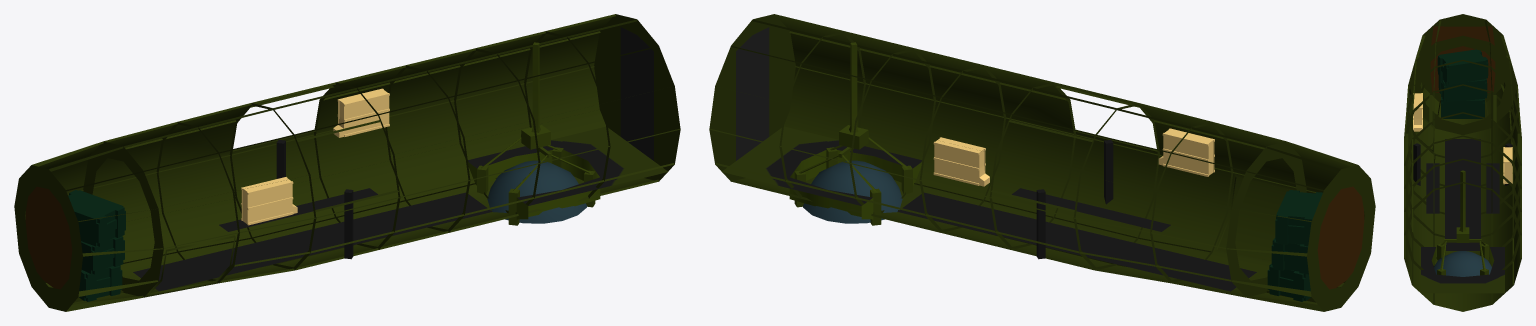
File: InteriorPlane.fbx
3 renders of one model, left to right at view 1: azimuth 30°, elevation 25°; view 2: azimuth 150°, elevation 25°; view 3: azimuth 270°, elevation 25°, orthographic. The views are drawn at different scales.
Visible parts, largest first — view 1: interior, interiorSupport, Platform, SphereTurretDisarm, Box, AmmunitionBoxes, Blanquet, SphereTurretAxis; view 2: interior, interiorSupport, Platform, SphereTurretDisarm, AmmunitionBoxes, Box, Blanquet, SphereTurretAxis; view 3: interiorSupport, interior, Platform, Box, Blanquet, SphereTurretDisarm, AmmunitionBoxes, SphereTurretAxis.
Part boxes in pixels (box(x1,y1,x2,y2)): interior: box(25, 14, 680, 304); interiorSupport: box(14, 14, 680, 311); Platform: box(133, 126, 668, 291); SphereTurretDisarm: box(477, 137, 595, 225); Box: box(68, 190, 125, 301); AmmunitionBoxes: box(241, 88, 389, 225); Blanquet: box(25, 186, 72, 289); SphereTurretAxis: box(521, 42, 551, 157); interior: box(709, 14, 1364, 304); interiorSupport: box(709, 14, 1375, 311); Platform: box(721, 126, 1256, 291); SphereTurretDisarm: box(794, 137, 912, 225); AmmunitionBoxes: box(933, 128, 1214, 186); Box: box(1267, 190, 1322, 301); Blanquet: box(1317, 186, 1364, 289); SphereTurretAxis: box(838, 42, 868, 157); interiorSupport: box(1404, 14, 1521, 303); interior: box(1404, 82, 1521, 311); Platform: box(1413, 139, 1512, 293); Box: box(1437, 49, 1488, 118); Blanquet: box(1430, 26, 1495, 92); SphereTurretDisarm: box(1434, 241, 1491, 276); AmmunitionBoxes: box(1413, 93, 1512, 184); SphereTurretAxis: box(1444, 170, 1481, 242).
Size of the model in its own units: 892 by 230 by 227.
Materials: 1 (1 with a texture image).
